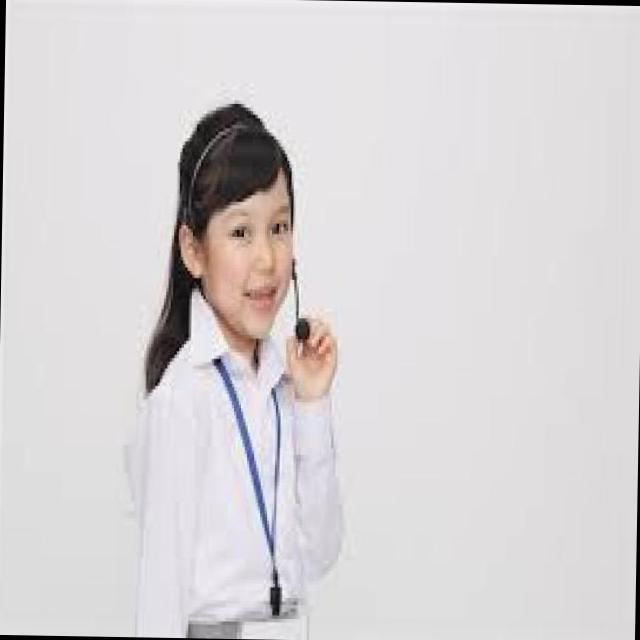id_card: (217, 362, 300, 640)
